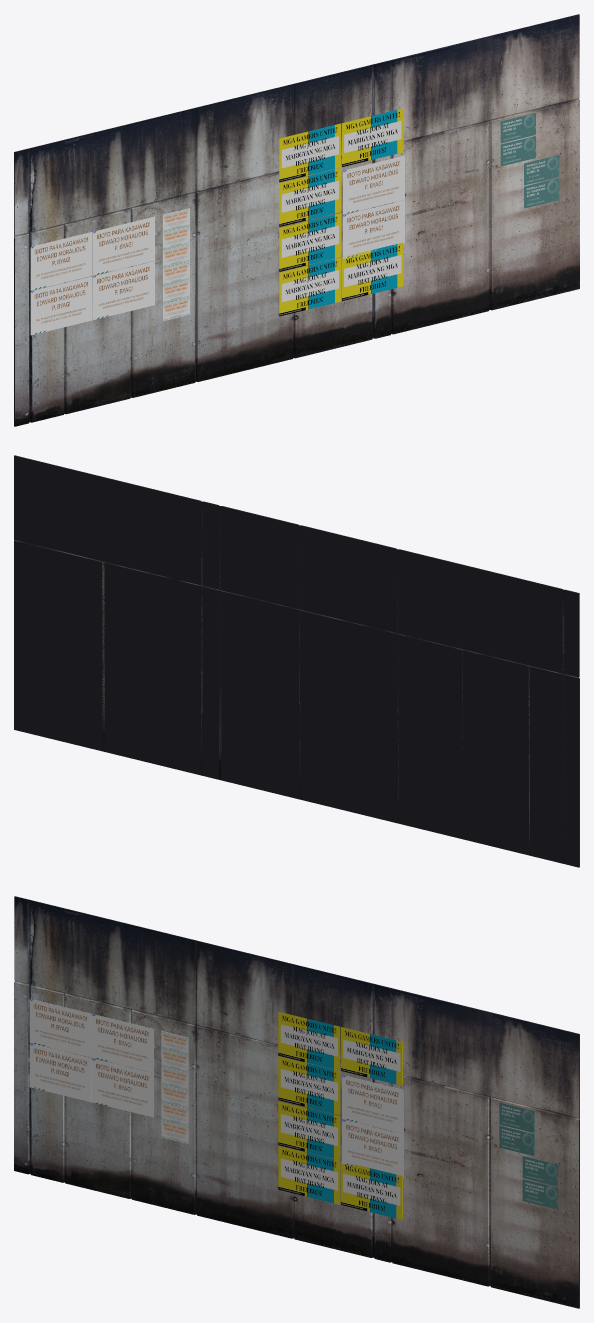
Rendered from Wall 2.fbx.
The picture shows the model from 3 angles, top to bottom: view 1: azimuth 30°, elevation 25°; view 2: azimuth 150°, elevation 25°; view 3: azimuth 330°, elevation 25°; orthographic projection.
Visible parts, largest first — view 1: Wall, Plane.004, Plane.005, Plane.011, Plane.014, Plane.012, Plane.013, Plane.001, Plane.003, Plane.016, Plane.015, Plane.018 (+5 smaller); view 2: Wall; view 3: Wall, Plane.004, Plane.011, Plane.012, Plane.013, Plane.014, Plane.005, Plane.003, Plane.015, Plane.001, Plane.016, Plane.018 (+5 smaller).
Boxes of the visible parts, x1,y1,x2,y2 form: Wall: (14,14,579,426); Plane.004: (30,232,92,290); Plane.005: (30,276,92,335); Plane.011: (279,123,341,182); Plane.014: (279,257,341,316); Plane.012: (279,168,341,226); Plane.013: (279,213,341,271); Plane.001: (93,216,154,275); Plane.003: (93,261,154,320); Plane.016: (343,155,404,214); Plane.015: (342,108,403,166); Plane.018: (342,242,403,301); Wall: (14,455,579,867); Wall: (14,896,579,1308); Plane.004: (29,999,91,1057); Plane.011: (278,1011,340,1070); Plane.012: (278,1056,340,1115); Plane.013: (278,1101,340,1159); Plane.014: (278,1145,340,1204); Plane.005: (29,1043,91,1102); Plane.003: (92,1058,153,1117); Plane.015: (341,1027,402,1085); Plane.001: (92,1014,153,1072); Plane.016: (342,1075,403,1133); Plane.018: (341,1161,402,1219).
Size of the model in its own units: 1188 by 551 by 4.03.
Materials: 5 (5 with a texture image).
